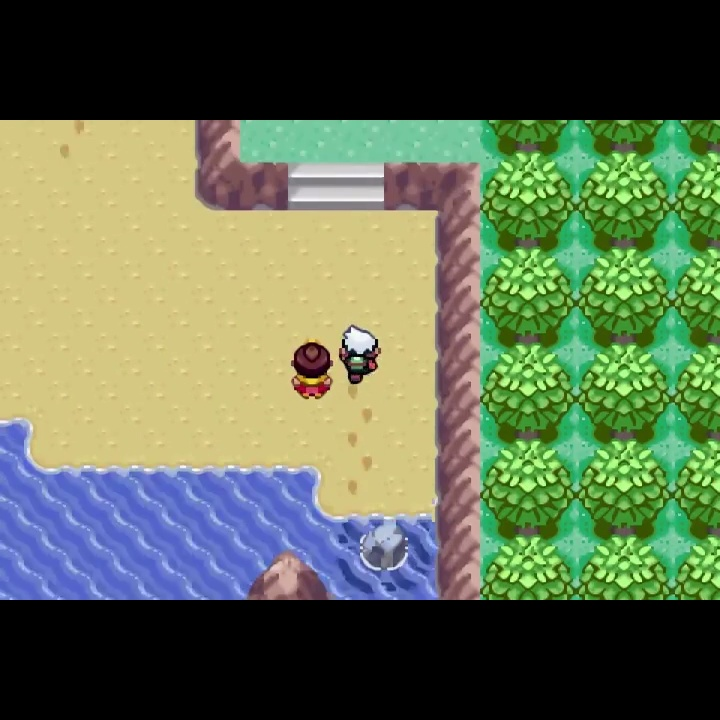npc: (286, 338, 337, 402), (337, 322, 383, 386)
wall: (576, 153, 673, 254), (480, 439, 577, 538), (574, 342, 673, 438), (577, 438, 672, 538), (481, 153, 576, 253), (478, 344, 575, 439), (479, 251, 575, 345), (576, 253, 673, 343), (481, 536, 576, 599), (576, 538, 672, 600), (672, 439, 720, 539), (672, 342, 720, 441), (674, 153, 720, 252), (673, 252, 720, 344), (577, 120, 673, 154), (481, 120, 577, 153), (672, 538, 720, 601), (670, 120, 720, 154)
